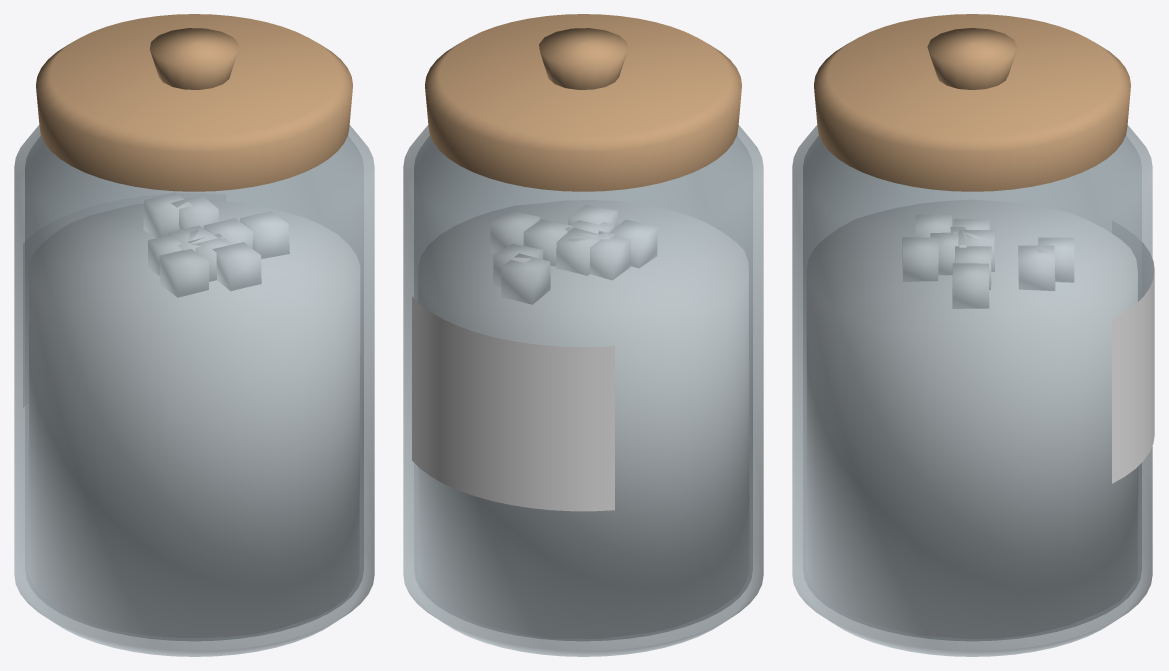
File: props-sugarjar.glb
The picture shows the model from 3 angles, left to right: view 1: azimuth 30°, elevation 25°; view 2: azimuth 150°, elevation 25°; view 3: azimuth 270°, elevation 25°; orthographic projection.
Visible parts, largest first — view 1: SugarJar__Glass, SugarJar__Contents, SugarJar__Lid; view 2: SugarJar__Glass, SugarJar__Contents, SugarJar__Lid, SugarJar__Label; view 3: SugarJar__Glass, SugarJar__Contents, SugarJar__Lid, SugarJar__Label.
Boxes of the visible parts, x1=… form: SugarJar__Glass: x1=14, y1=125, x2=374, y2=656; SugarJar__Contents: x1=28, y1=193, x2=359, y2=637; SugarJar__Lid: x1=36, y1=14, x2=352, y2=191; SugarJar__Glass: x1=403, y1=125, x2=763, y2=656; SugarJar__Contents: x1=418, y1=200, x2=749, y2=638; SugarJar__Lid: x1=425, y1=14, x2=741, y2=191; SugarJar__Label: x1=412, y1=296, x2=614, y2=511; SugarJar__Glass: x1=792, y1=125, x2=1152, y2=656; SugarJar__Contents: x1=806, y1=200, x2=1137, y2=638; SugarJar__Lid: x1=814, y1=14, x2=1130, y2=191; SugarJar__Label: x1=1112, y1=242, x2=1154, y2=483.
Bounding box in the file's own units: 14 × 23.4 × 14.08.
